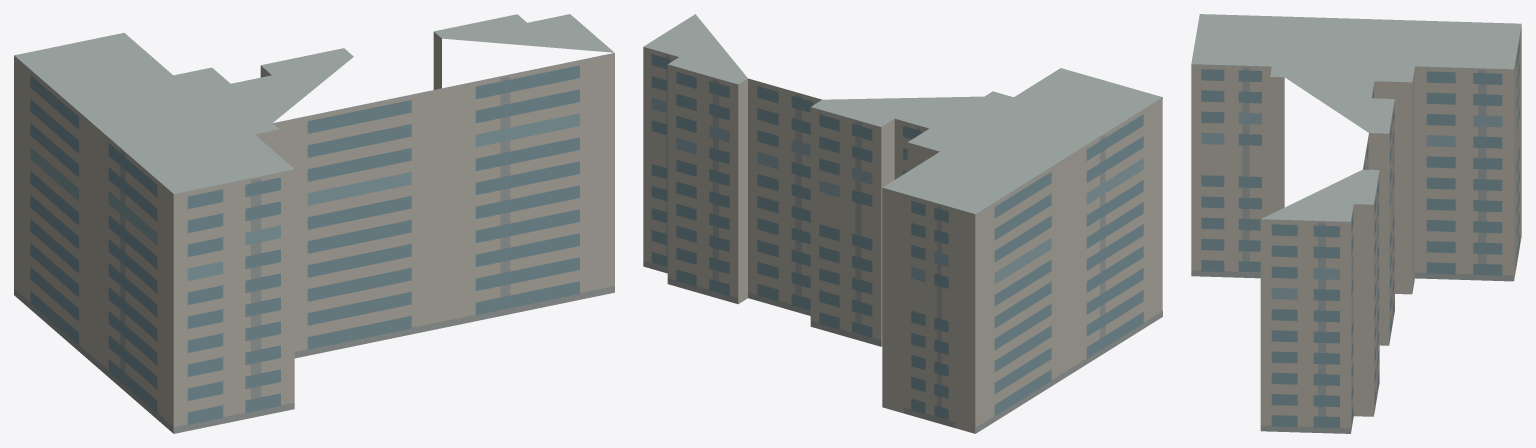
The model's file is residential-48ee6788-7bdb-4e54-b0b5-5792c405204c.glb.
The picture shows the model from 3 angles, left to right: view 1: azimuth 30°, elevation 25°; view 2: azimuth 150°, elevation 25°; view 3: azimuth 270°, elevation 25°; orthographic projection. The views are drawn at different scales.
Visible parts, largest first — view 1: residential-48ee6788-7bdb-4e54-b0b5-5792c405204c.tmp; view 2: residential-48ee6788-7bdb-4e54-b0b5-5792c405204c.tmp; view 3: residential-48ee6788-7bdb-4e54-b0b5-5792c405204c.tmp.
Boxes of the visible parts, <box> form: residential-48ee6788-7bdb-4e54-b0b5-5792c405204c.tmp: <box>14,14,614,433</box>; residential-48ee6788-7bdb-4e54-b0b5-5792c405204c.tmp: <box>643,14,1162,433</box>; residential-48ee6788-7bdb-4e54-b0b5-5792c405204c.tmp: <box>1191,14,1521,433</box>.
Size of the model in its own units: 58.87 by 28 by 39.55.
